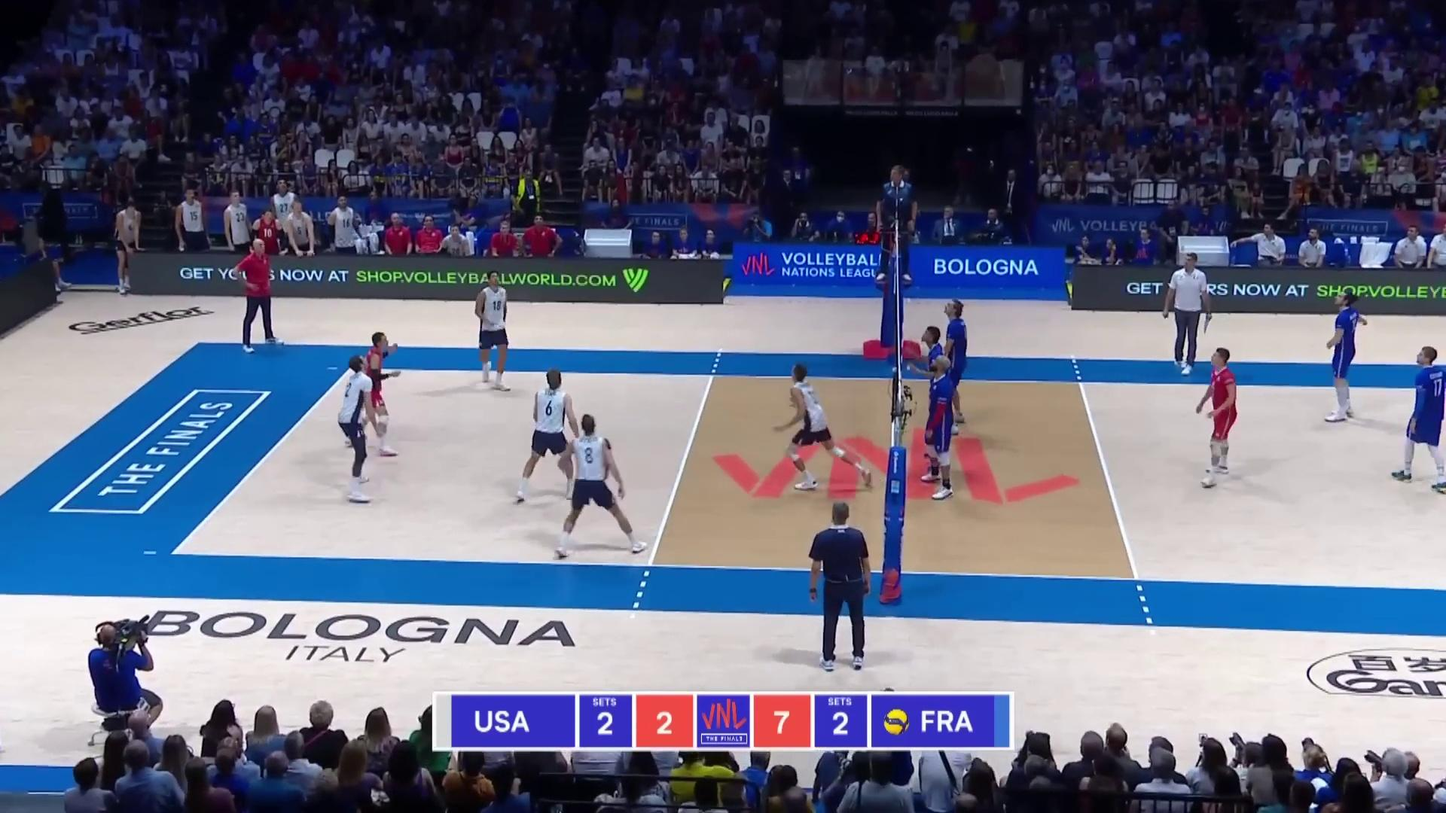player: (559, 415, 649, 557), (771, 364, 872, 490), (510, 372, 576, 507), (1394, 345, 1446, 498), (915, 326, 961, 479), (1194, 350, 1242, 487), (335, 356, 379, 504), (1322, 290, 1369, 425), (360, 331, 404, 460), (931, 303, 972, 438), (922, 356, 959, 504), (474, 270, 514, 393)
refree: (805, 503, 874, 669), (872, 166, 912, 284)
